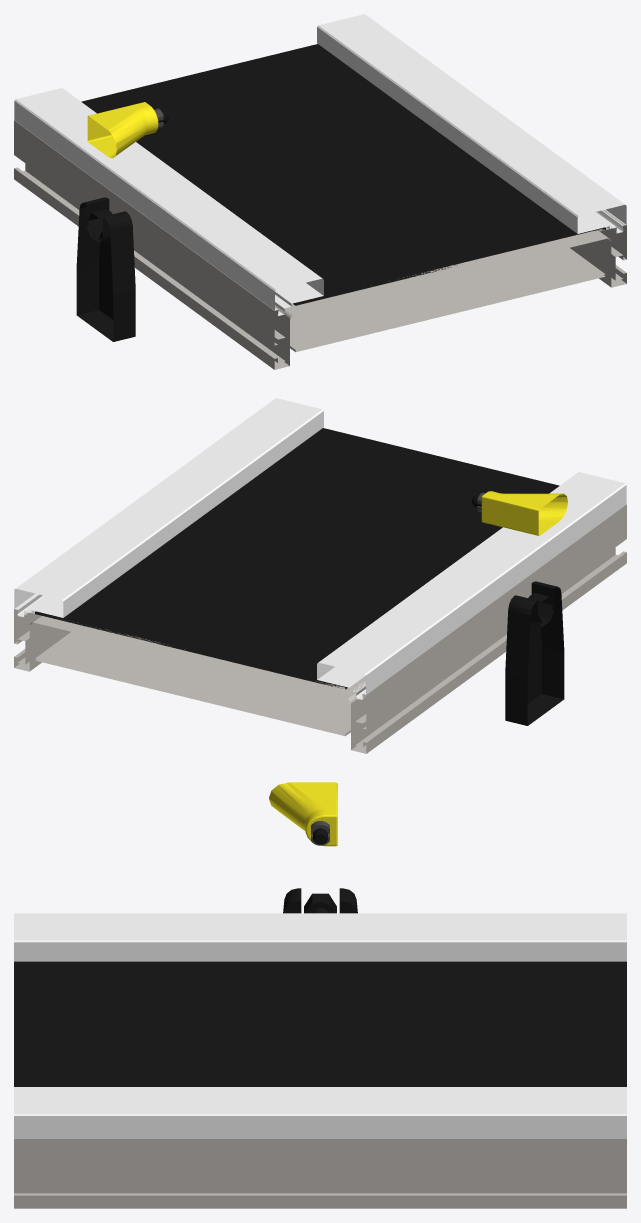
The model's file is Cube02_PinInsertionStation.glb.
3 views of the same model, one above another, from view 1: azimuth 30°, elevation 25°; view 2: azimuth 150°, elevation 25°; view 3: azimuth 270°, elevation 25° (orthographic). The views are drawn at different scales.
Parts seen in each view (by area): view 1: color-25; view 2: color-25; view 3: color-25.
Part boxes in pixels (x1,y1,x2,y2): color-25: (14,14,626,369); color-25: (14,398,626,753); color-25: (14,782,626,1208).
Size of the model in its own units: 0.285 by 0.141 by 0.32.
